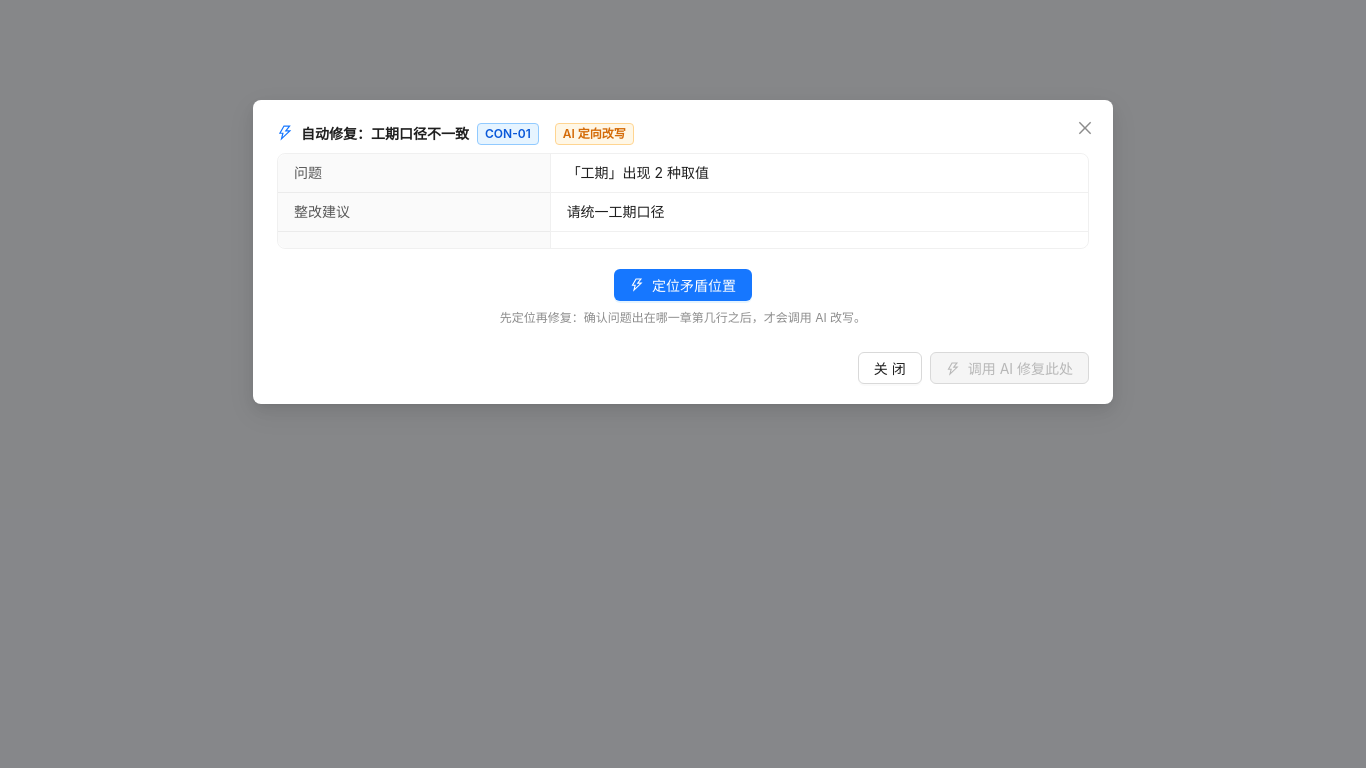
AutoFixModal · 审核预检问题自动修复 › 定位后回显矛盾位置（章节 + 行号 + 原文），才放开修复按钮
Click the button "定位矛盾位置": (683, 285) [614,269,752,301]
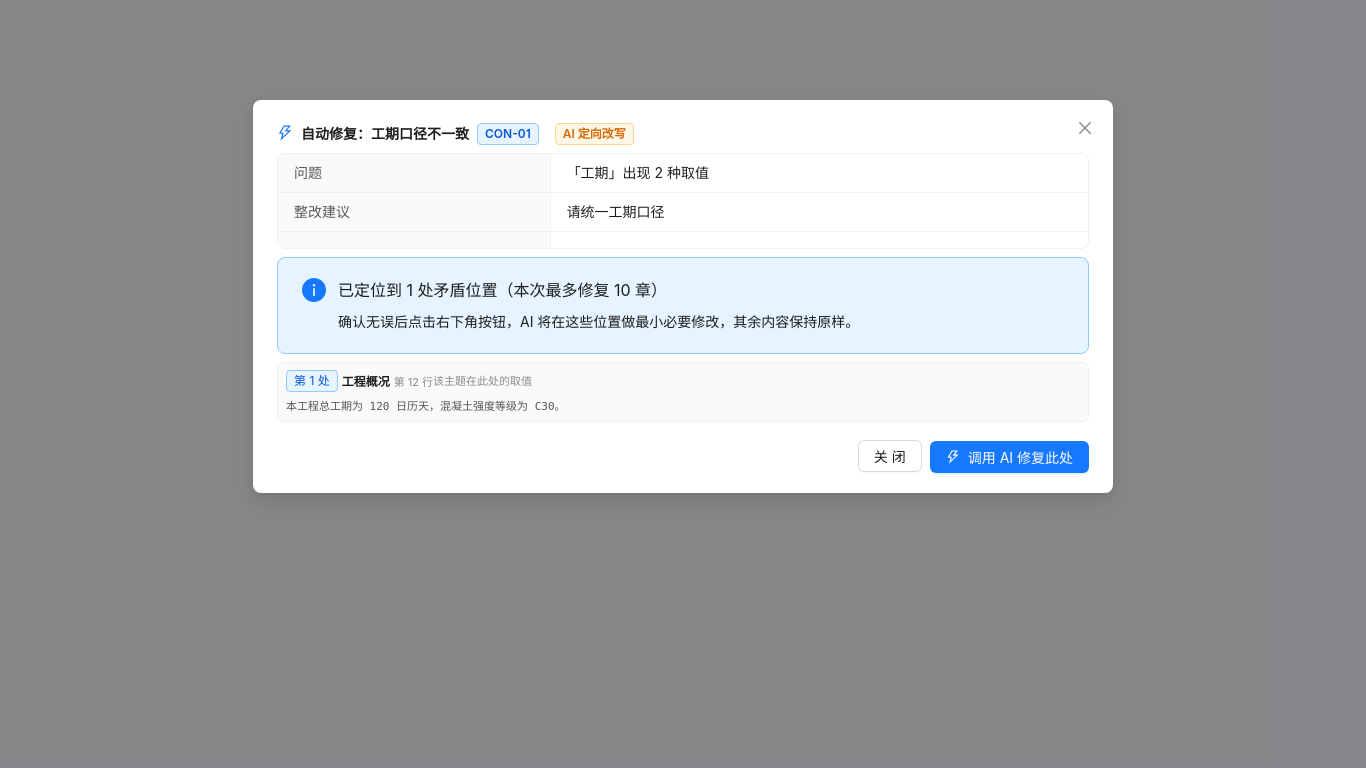
expect the button "调用 AI 修复此处" is enabled: met, box [930,441,1089,473]
